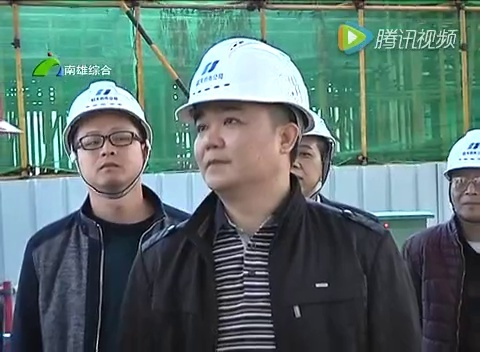white: (179, 36, 308, 193), (61, 81, 154, 192), (285, 109, 334, 194), (441, 128, 480, 223)
